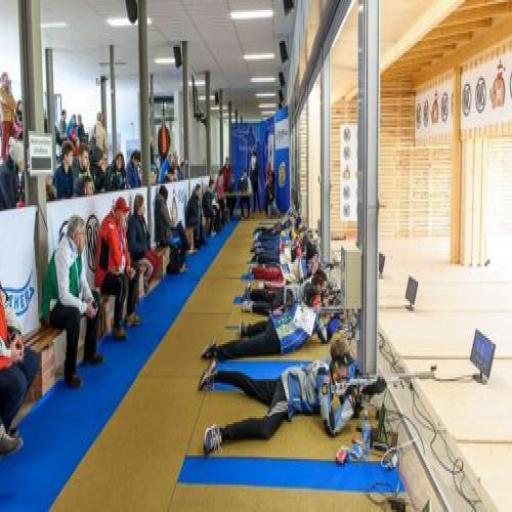shooting: (198, 332, 364, 461), (200, 280, 330, 366), (236, 269, 340, 327), (237, 264, 341, 320), (239, 259, 338, 307), (250, 239, 328, 295), (255, 199, 309, 252), (254, 224, 314, 266)
